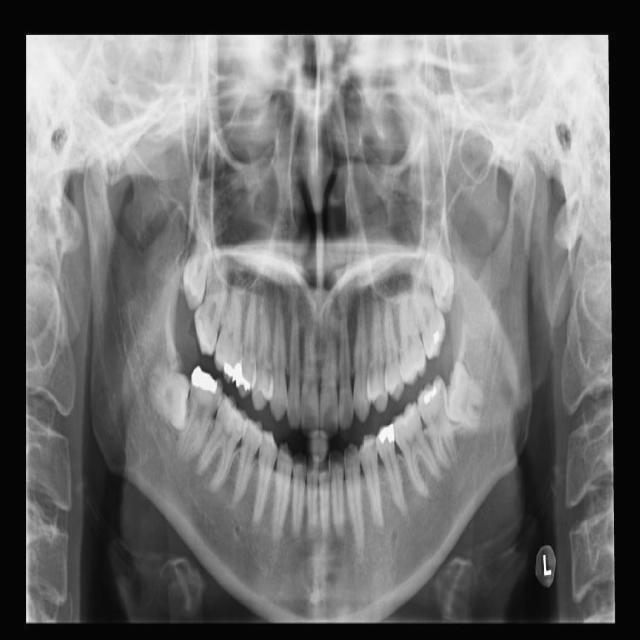Filling: (220, 395, 246, 433), (189, 365, 220, 395), (421, 380, 440, 409), (234, 372, 252, 391), (430, 327, 444, 351), (379, 424, 395, 445), (221, 363, 241, 379)
Periapical lesion: (204, 469, 230, 500), (187, 457, 211, 488)
impacted tooth: (143, 347, 190, 428), (425, 223, 456, 310), (445, 363, 483, 431), (185, 215, 212, 307)
